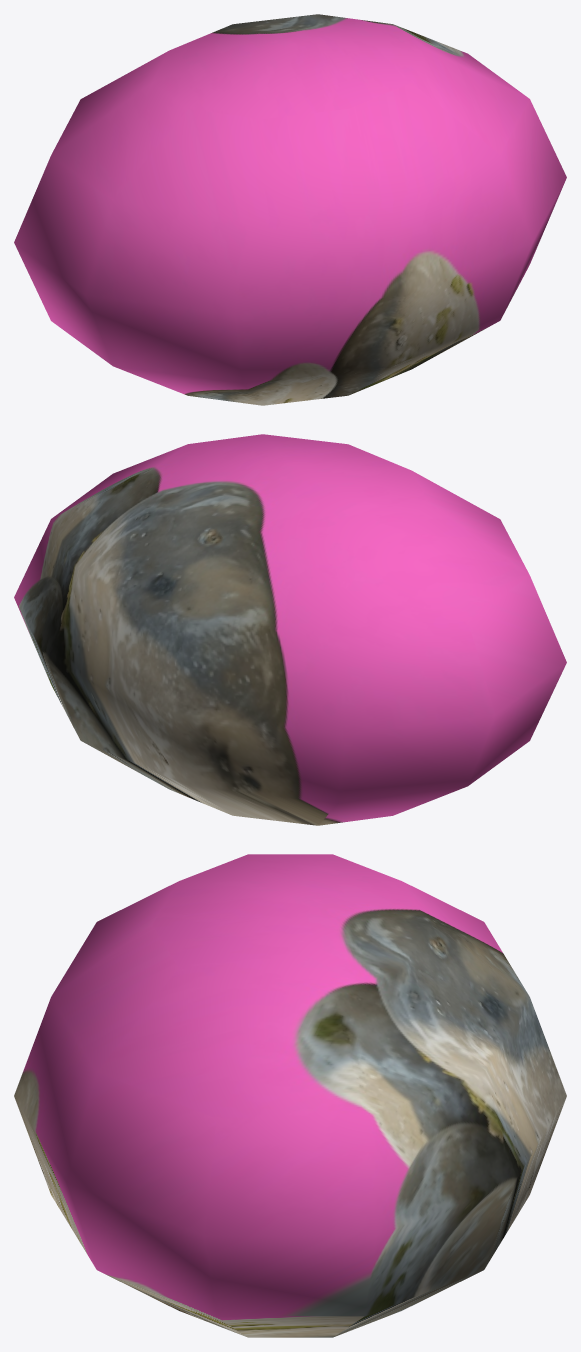
The model's file is rock.glb.
3 views of the same model, one above another, from view 1: azimuth 30°, elevation 25°; view 2: azimuth 150°, elevation 25°; view 3: azimuth 270°, elevation 25° (orthographic). The views are drawn at different scales.
Parts seen in each view (by area): view 1: rock_body; view 2: rock_body; view 3: rock_body.
Boxes of the visible parts, <box> form: rock_body: <box>14,14,566,405</box>; rock_body: <box>14,434,566,825</box>; rock_body: <box>14,854,566,1337</box>.
Bounding box in the file's own units: 1.37 × 0.9 × 1.14.
Materials: 1 (1 with a texture image).
